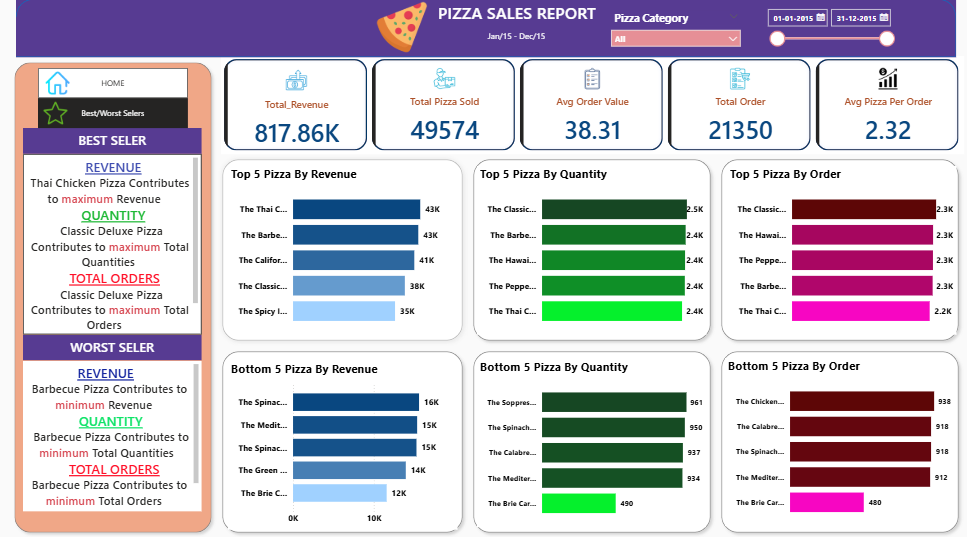

The page's visual inventory and layout, read from the dashboard file:
{"tool":"powerbi","page":{"name":"Best/Worst Selers","canvas":[1580,880],"ordinal":1},"visuals":[{"type":"cardVisual","fields":{"Data":["pizza_sales.Total_Revenue","pizza_sales.Total Pizza Sold","pizza_sales.Avg Order Value","pizza_sales.Total Order","pizza_sales.Avg Pizza Per Order"]},"box":[360.1,94.5,1210.8,159.7],"z":0},{"type":"shape","box":[26.1,1.6,1531.9,94.5],"z":1000},{"type":"textbox","box":[695.9,0,293.3,48.9],"z":2000},{"type":"textbox","box":[779,47.3,125.5,32.6],"z":3000},{"type":"image","box":[565.5,0,179.3,94.5],"z":4000},{"type":"shape","box":[353.6,254.2,409,312.9],"z":5000},{"type":"shape","box":[762.7,254.2,404.1,312.9],"z":6000},{"type":"shape","box":[353.6,567.1,409,312.9],"z":7000},{"type":"shape","box":[762.7,567.1,404.1,312.9],"z":8000},{"type":"shape","box":[1166.8,567.1,404.1,312.9],"z":9000},{"type":"shape","box":[14.7,96.1,339,783.9],"z":10000},{"type":"textbox","box":[37.4,212.4,290.5,42.5],"z":11000},{"type":"textbox","box":[37.4,254.8,290.5,293.9],"z":12000},{"type":"textbox","box":[37.4,548.8,290.5,40.8],"z":13000},{"type":"textbox","box":[37.4,591.2,290.5,244.6],"z":14000},{"type":"slicer","fields":{"Values":["pizza_sales.pizza_category"]},"box":[985.9,13,231.4,66.8],"z":15000},{"type":"slicer","fields":{"Values":["pizza_sales.order_date"]},"box":[1238.5,8.1,228.1,81.5],"z":16000},{"type":"shape","box":[1166.8,254.2,404.1,312.9],"z":17000},{"type":"barChart","title":"Top 5 Pizza By Revenue","fields":{"Category":["pizza_sales.pizza_name"],"Y":["pizza_sales.Total_Revenue"]},"box":[372.1,273.5,373.8,275.2],"z":18000},{"type":"barChart","title":"Bottom 5 Pizza By Revenue","fields":{"Category":["pizza_sales.pizza_name"],"Y":["pizza_sales.Total_Revenue"]},"box":[372.1,591.2,373.8,275.2],"z":19000},{"type":"barChart","title":"Top 5 Pizza By Order","fields":{"Category":["pizza_sales.pizza_name"],"Y":["pizza_sales.Total Order"]},"box":[1184.2,273.5,373.8,275.2],"z":20000},{"type":"barChart","title":"Top 5 Pizza By Quantity","fields":{"Category":["pizza_sales.pizza_name"],"Y":["pizza_sales.Total Pizza Sold"]},"box":[778.1,273.5,373.8,275.2],"z":21000},{"type":"barChart","title":"Bottom 5 Pizza By Quantity","fields":{"Category":["pizza_sales.pizza_name"],"Y":["pizza_sales.Total Pizza Sold"]},"box":[777.6,588.9,373.2,273.7],"z":22000},{"type":"barChart","title":"Bottom 5 Pizza By Order","fields":{"Category":["pizza_sales.pizza_name"],"Y":["pizza_sales.Total Order"]},"box":[1181.9,586.8,373.2,273.7],"z":23000},{"type":"pageNavigator","box":[61.2,163.1,244.6,49.3],"z":24000},{"type":"pageNavigator","box":[61.2,113.8,244.6,49.3],"z":25000},{"type":"image","box":[61.9,163,57,48.9],"z":25001},{"type":"image","box":[68.4,114.1,50.5,48.9],"z":25002}]}

Visuals, with their boxes in screenshot pixels (x1, y1, x2, y2), scaled from the page's 1580x880 canvas onto the 967x537 screenshot:
cardVisual - pizza_sales.Total_Revenue x pizza_sales.Total Pizza Sold: (left=220, top=58, right=961, bottom=155)
shape: (left=16, top=1, right=954, bottom=59)
textbox: (left=426, top=0, right=605, bottom=30)
textbox: (left=477, top=29, right=554, bottom=49)
image: (left=346, top=0, right=456, bottom=58)
shape: (left=216, top=155, right=467, bottom=346)
shape: (left=467, top=155, right=714, bottom=346)
shape: (left=216, top=346, right=467, bottom=536)
shape: (left=467, top=346, right=714, bottom=536)
shape: (left=714, top=346, right=961, bottom=536)
shape: (left=9, top=59, right=216, bottom=536)
textbox: (left=23, top=130, right=201, bottom=156)
textbox: (left=23, top=155, right=201, bottom=335)
textbox: (left=23, top=335, right=201, bottom=360)
textbox: (left=23, top=361, right=201, bottom=510)
slicer - pizza_sales.pizza_category: (left=603, top=8, right=745, bottom=49)
slicer - pizza_sales.order_date: (left=758, top=5, right=898, bottom=55)
shape: (left=714, top=155, right=961, bottom=346)
"Top 5 Pizza By Revenue" barChart: (left=228, top=167, right=457, bottom=335)
"Bottom 5 Pizza By Revenue" barChart: (left=228, top=361, right=457, bottom=529)
"Top 5 Pizza By Order" barChart: (left=725, top=167, right=954, bottom=335)
"Top 5 Pizza By Quantity" barChart: (left=476, top=167, right=705, bottom=335)
"Bottom 5 Pizza By Quantity" barChart: (left=476, top=359, right=704, bottom=526)
"Bottom 5 Pizza By Order" barChart: (left=723, top=358, right=952, bottom=525)
pageNavigator: (left=37, top=100, right=187, bottom=130)
pageNavigator: (left=37, top=69, right=187, bottom=100)
image: (left=38, top=99, right=73, bottom=129)
image: (left=42, top=70, right=73, bottom=99)
